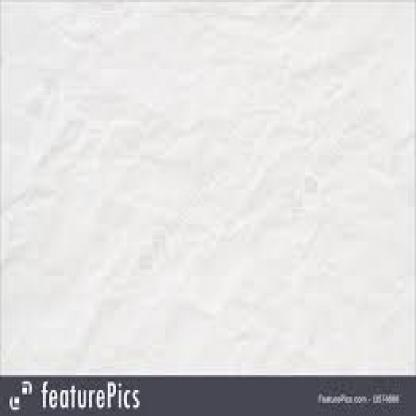paper: (0, 0, 415, 374)
